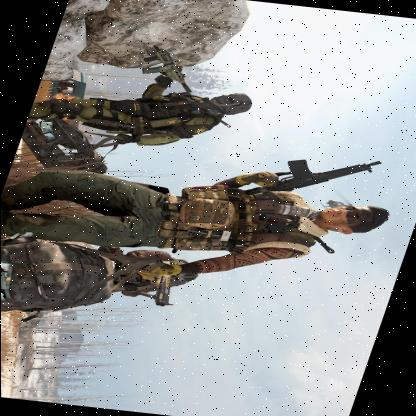rifle: (240, 140, 392, 212), (128, 44, 214, 92)
